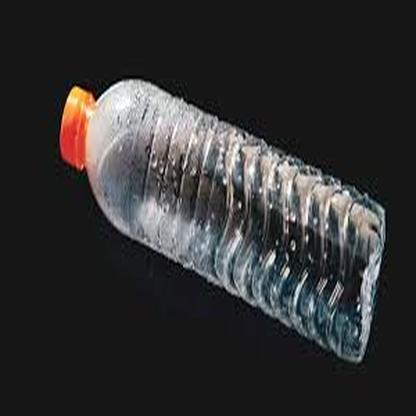plastic bottle: (60, 78, 387, 366)
